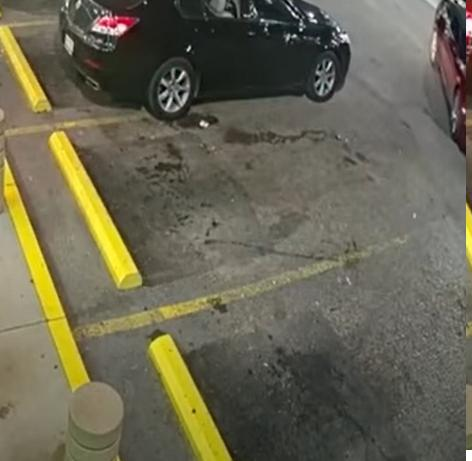NoHuman: (0, 2, 472, 461)
